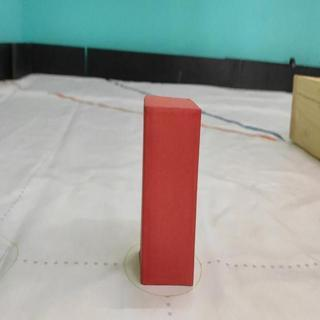redbox: (141, 95, 201, 286)
